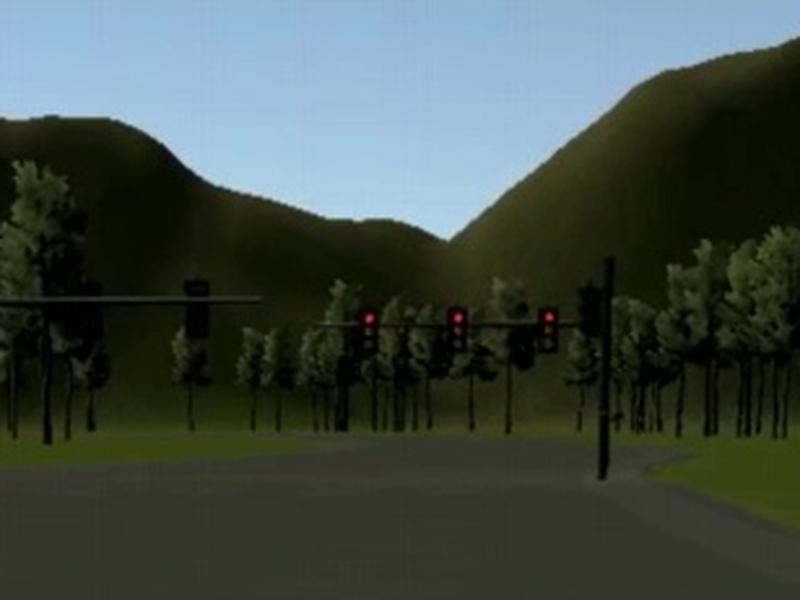Red: (536, 304, 560, 357), (447, 307, 467, 353), (359, 311, 378, 355)
